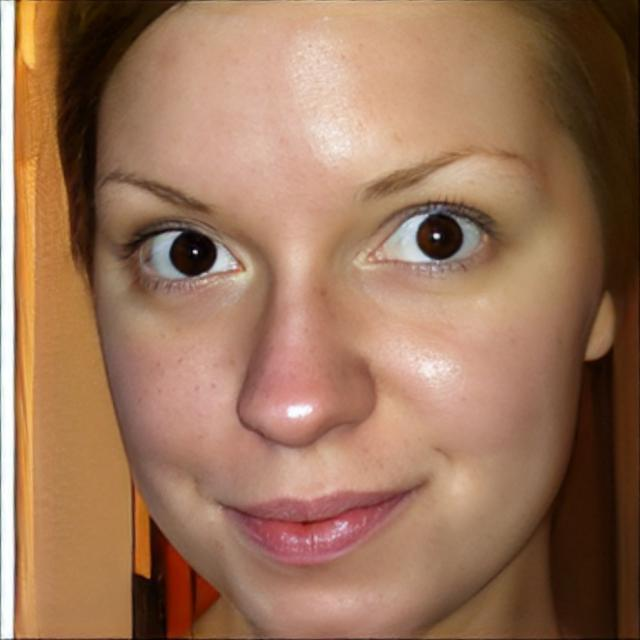surprise: (90, 0, 606, 640)
